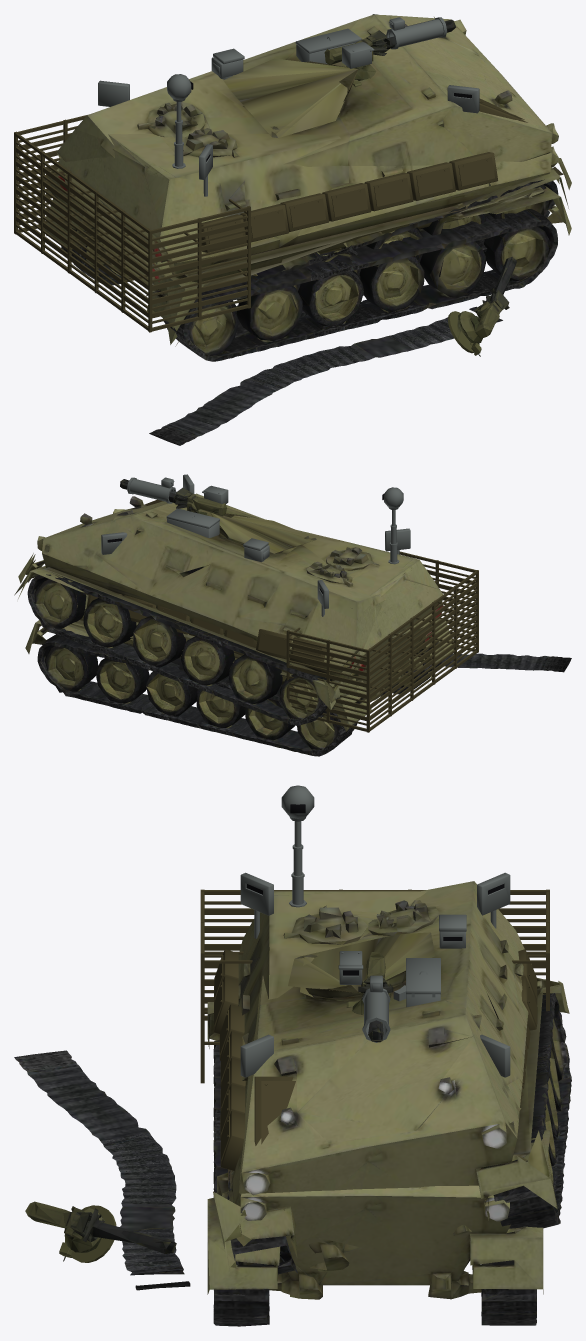
File: ifv_namer.glb
The picture shows the model from 3 angles, top to bottom: view 1: azimuth 30°, elevation 25°; view 2: azimuth 150°, elevation 25°; view 3: azimuth 270°, elevation 25°; orthographic projection. The views are drawn at different scales.
Visible parts, largest first — view 1: WRECK_hull_hull, hull_hull, hull_rubber, WRECK_hull_rubber, kit_armour_3_hull_hull_far, kit_armour_2_hull_hull, kit_armour_3_hull_hull_near, kit_armour_3_hull_hull, kit_sensors_2_hull_hull, WRECK_turret_metal, kit_firepower_2_turret_metal, kit_firepower_3_turret_metal (+5 smaller); view 2: WRECK_hull_hull, WRECK_hull_rubber, hull_rubber, hull_hull, kit_armour_3_hull_hull_far, kit_armour_3_hull_hull_near, kit_armour_3_hull_hull, kit_armour_2_hull_hull, kit_sensors_2_hull_hull, kit_firepower_3_turret_metal, kit_firepower_2_turret_metal, kit_sensors_3_hull_hull (+3 smaller); view 3: WRECK_hull_hull, hull_hull, WRECK_hull_rubber, hull_rubber, kit_armour_2_hull_hull, kit_sensors_2_hull_hull, WRECK_turret_metal, kit_armour_3_hull_hull, kit_armour_3_hull_hull_far, kit_armour_1_hull_hull, kit_sensors_3_hull_hull, kit_firepower_3_turret_metal (+6 smaller).
Boxes of the visible parts, <box> form: WRECK_hull_hull: <box>46,14,568,346</box>; hull_hull: <box>46,106,568,322</box>; hull_rubber: <box>45,198,571,361</box>; WRECK_hull_rubber: <box>45,17,571,445</box>; kit_armour_3_hull_hull_far: <box>16,133,247,318</box>; kit_armour_2_hull_hull: <box>201,152,497,252</box>; kit_armour_3_hull_hull_near: <box>16,126,247,323</box>; kit_armour_3_hull_hull: <box>14,115,250,332</box>; kit_sensors_2_hull_hull: <box>98,14,479,196</box>; WRECK_turret_metal: <box>448,256,516,355</box>; kit_firepower_2_turret_metal: <box>386,17,447,49</box>; kit_firepower_3_turret_metal: <box>295,28,361,63</box>; WRECK_hull_hull: <box>14,493,437,709</box>; WRECK_hull_rubber: <box>18,553,571,725</box>; hull_rubber: <box>25,624,453,756</box>; hull_hull: <box>29,530,452,718</box>; kit_armour_3_hull_hull_far: <box>289,569,477,720</box>; kit_armour_3_hull_hull_near: <box>289,564,477,725</box>; kit_armour_3_hull_hull: <box>286,551,478,732</box>; kit_armour_2_hull_hull: <box>86,593,326,667</box>; kit_sensors_2_hull_hull: <box>101,474,410,616</box>; kit_firepower_3_turret_metal: <box>166,508,219,537</box>; kit_firepower_2_turret_metal: <box>127,477,176,503</box>; kit_sensors_3_hull_hull: <box>382,487,403,564</box>; WRECK_hull_hull: <box>222,881,569,1277</box>; hull_hull: <box>207,891,543,1299</box>; WRECK_hull_rubber: <box>14,978,571,1290</box>; hull_rubber: <box>207,1018,543,1326</box>; kit_armour_2_hull_hull: <box>214,949,537,1170</box>; kit_sensors_2_hull_hull: <box>240,872,510,1077</box>; WRECK_turret_metal: <box>59,1205,176,1262</box>; kit_armour_3_hull_hull: <box>200,889,549,1083</box>; kit_armour_3_hull_hull_far: <box>204,908,545,1003</box>; kit_armour_1_hull_hull: <box>254,1076,295,1145</box>; kit_sensors_3_hull_hull: <box>281,785,314,907</box>; kit_firepower_3_turret_metal: <box>393,958,440,1007</box>.
Bounding box in the file's own units: 8.9 × 4.64 × 6.85.
1 material, 1 textured.
